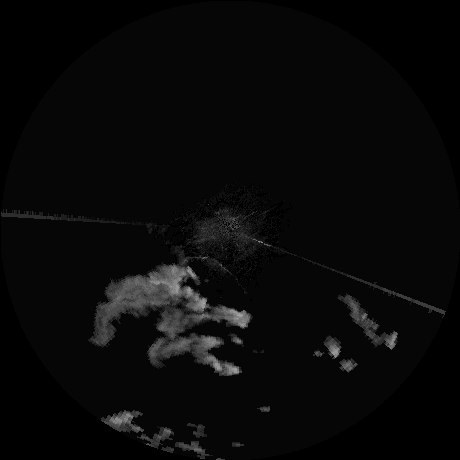frontgust: (184, 253, 228, 274)
